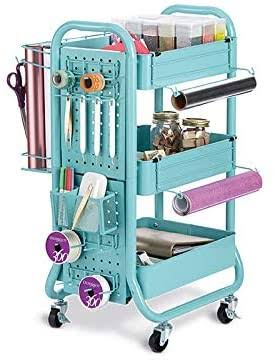Carts: (6, 3, 261, 354)
